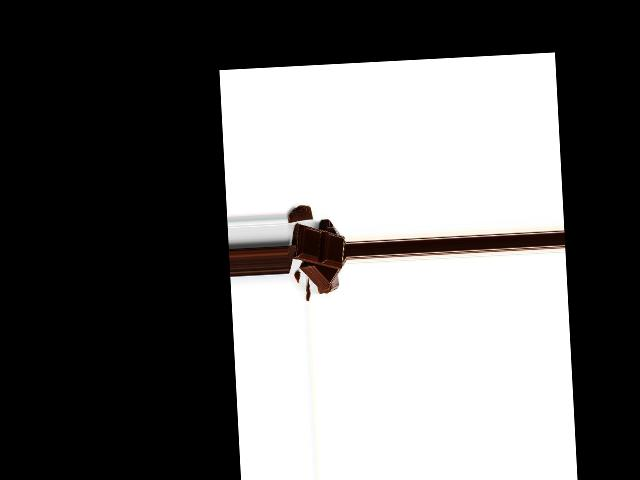chocolate: (292, 223, 344, 272)
